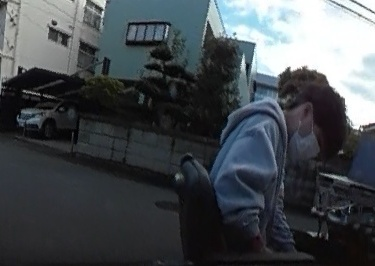person: (202, 83, 352, 266)
